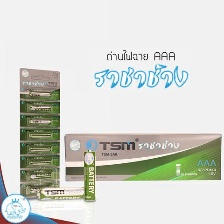battery: (80, 148, 98, 203), (36, 185, 89, 202), (26, 183, 58, 195), (26, 143, 57, 155), (27, 171, 56, 183), (27, 116, 55, 127), (27, 158, 57, 168), (29, 103, 56, 114), (27, 132, 56, 141), (29, 89, 54, 98)
book: (63, 130, 223, 184), (15, 63, 61, 203)
